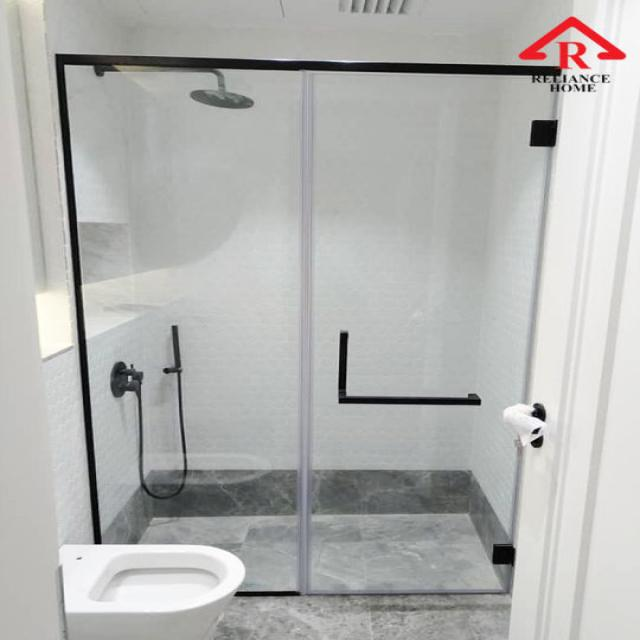door: (54, 55, 560, 593)
